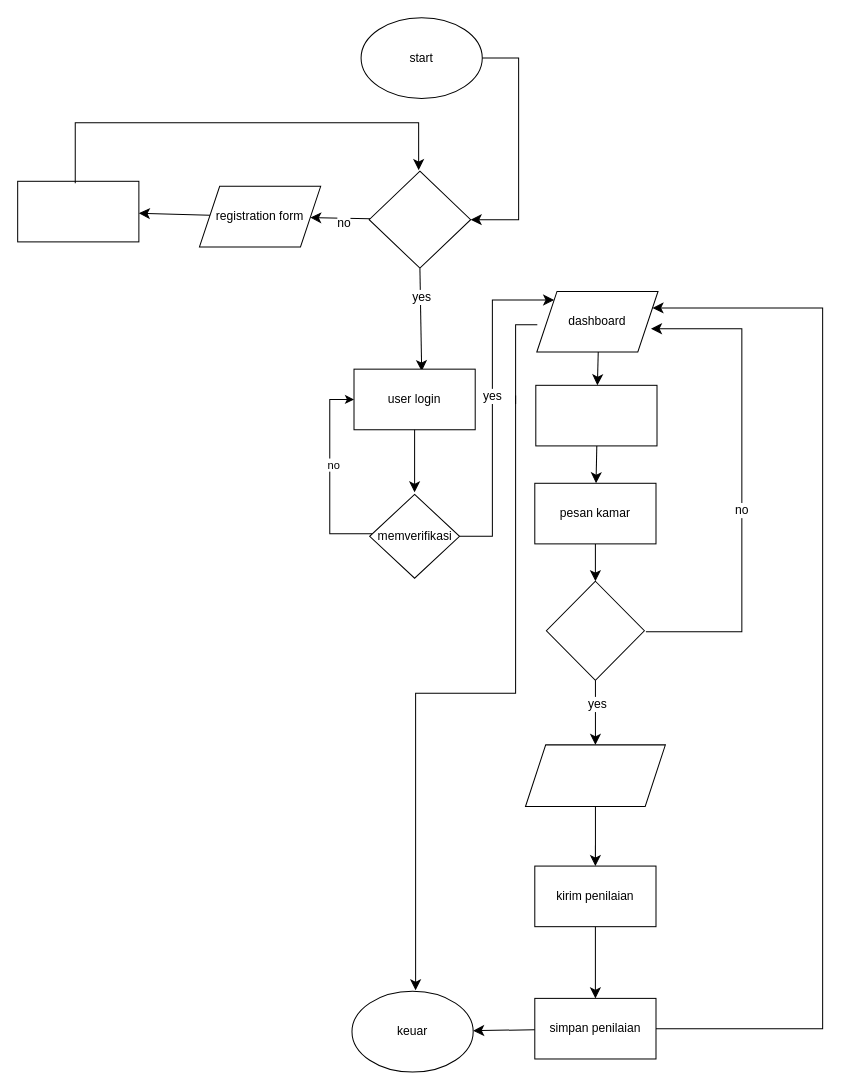
Image size: 850x1090. Some labels were removed from this diagram. The shapes that lost their labels are listed below. From the top down, each one's centre as x and y in pixels, then its label:
At (x=78, y=211): "simpan data user".
At (x=419, y=219): "apakah sudah login".
At (x=596, y=415): "cari kamar".
At (x=594, y=630): "lakukan pembayaran".
At (x=594, y=775): "rincian pembayaran".
